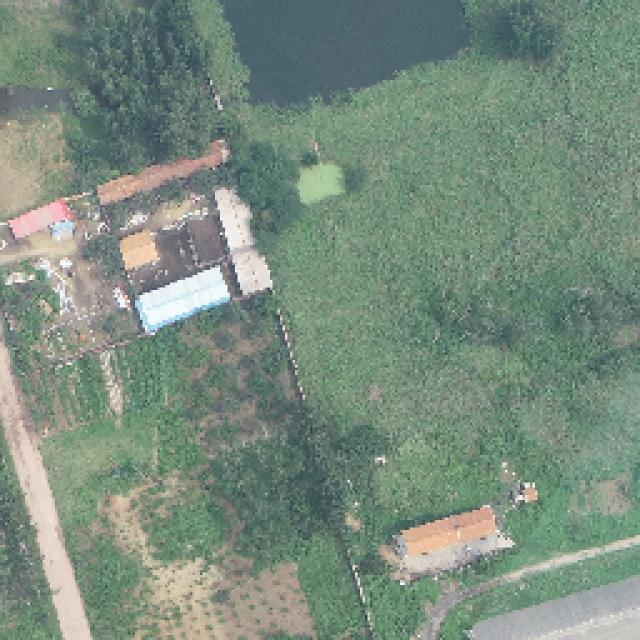Batiment: (99, 141, 229, 204), (11, 201, 72, 238)
